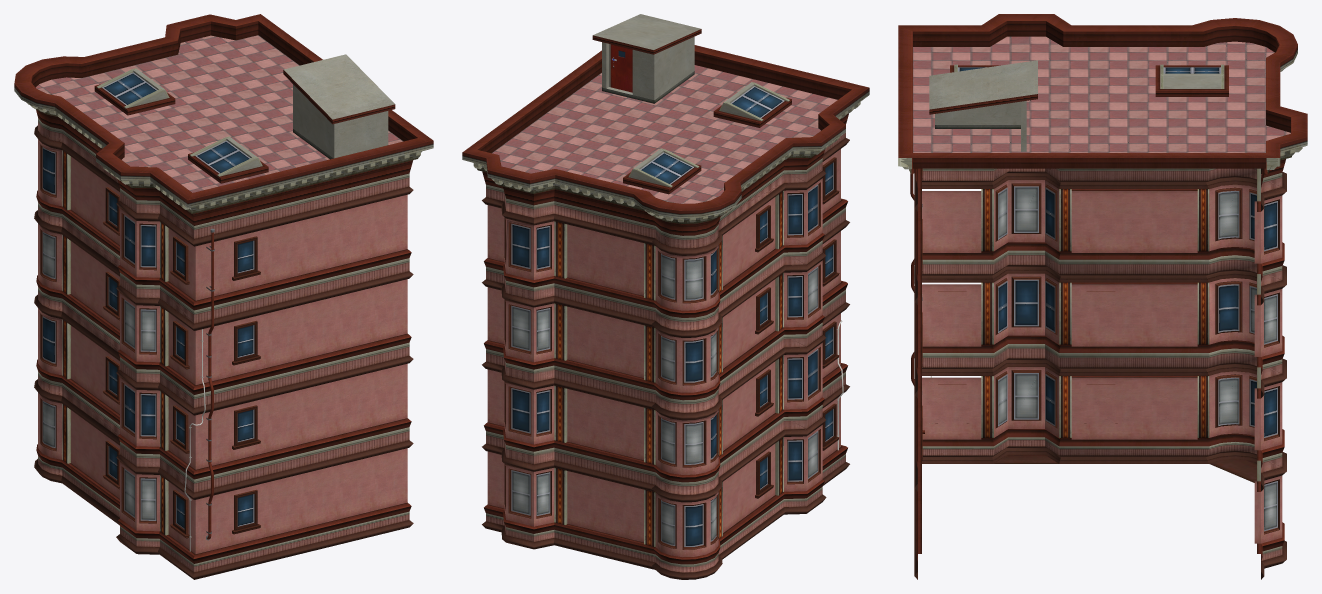
File: MHouseF.fbx
3 views of the same model, side by side, from view 1: azimuth 30°, elevation 25°; view 2: azimuth 150°, elevation 25°; view 3: azimuth 270°, elevation 25° (orthographic). The views are drawn at different scales.
Parts seen in each view (by area): view 1: ct2_03_n1_ks2_MhouseF_01; view 2: ct2_03_n1_ks2_MhouseF_01; view 3: ct2_03_n1_ks2_MhouseF_01.
Boxes of the visible parts, x1,y1,x2,y2 form: ct2_03_n1_ks2_MhouseF_01: [14, 14, 433, 579]; ct2_03_n1_ks2_MhouseF_01: [462, 14, 869, 579]; ct2_03_n1_ks2_MhouseF_01: [898, 14, 1307, 579].
Size of the model in its own units: 1637 by 2553 by 1967.
